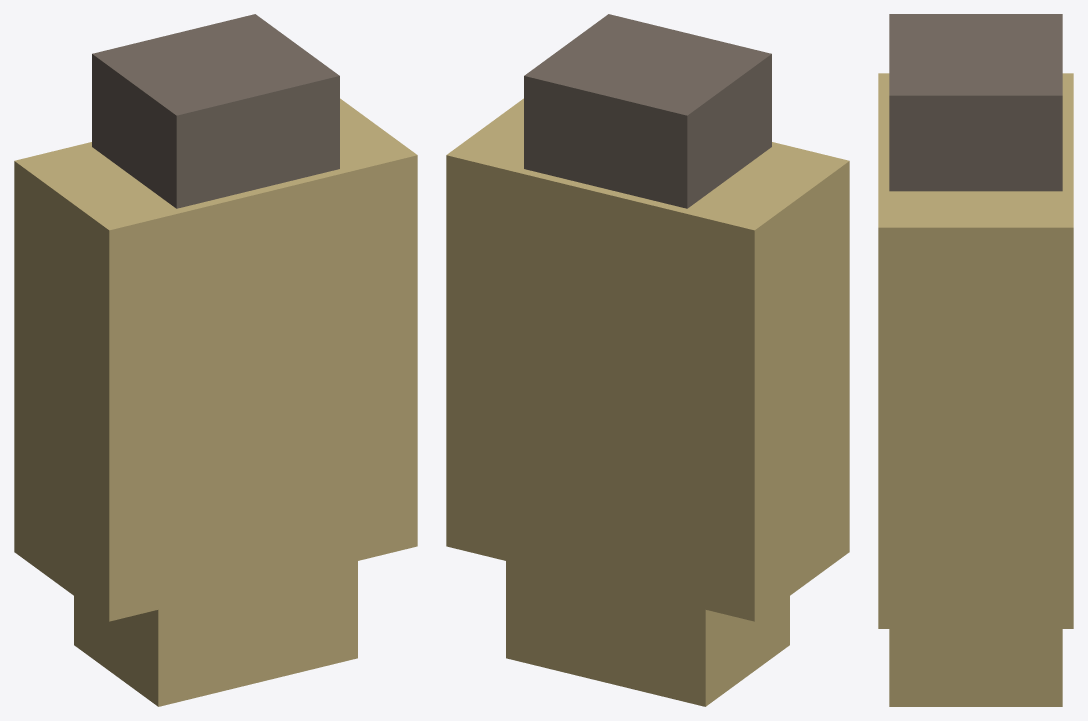
Rendered from iz2_item_pasta_pack.glb.
3 renders of one model, left to right at view 1: azimuth 30°, elevation 25°; view 2: azimuth 150°, elevation 25°; view 3: azimuth 270°, elevation 25°, orthographic. The views are drawn at different scales.
Visible parts, largest first — view 1: body; view 2: body; view 3: body.
Part boxes in pixels (x1=…): body: x1=14, y1=14, x2=417, y2=706; body: x1=446, y1=14, x2=849, y2=706; body: x1=878, y1=14, x2=1073, y2=706.
Bounding box in the file's own units: 0.3413 × 0.6205 × 0.1822.
